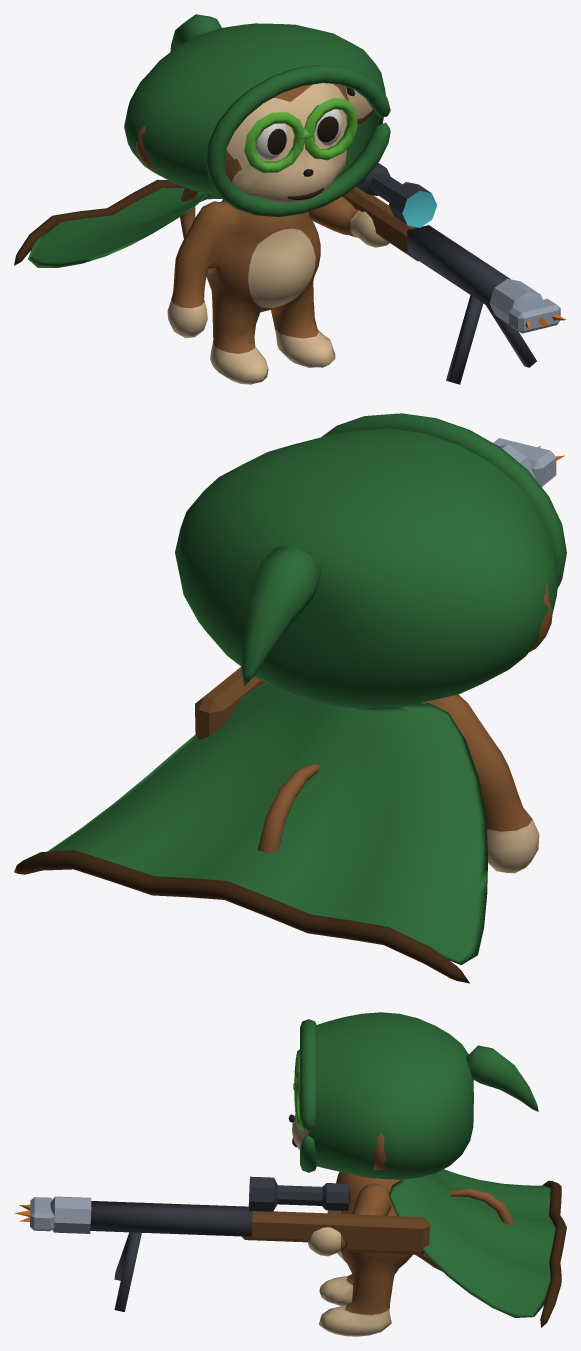
3 views of the same model, one above another, from view 1: azimuth 30°, elevation 25°; view 2: azimuth 150°, elevation 25°; view 3: azimuth 270°, elevation 25° (orthographic). The views are drawn at different scales.
Parts seen in each view (by area): view 1: sniper_2_cabeca, sniper_0_corpo, sniper_3_braco, sniper_1_cauda; view 2: sniper_2_cabeca, sniper_0_corpo, sniper_3_braco, sniper_1_cauda; view 3: sniper_2_cabeca, sniper_0_corpo, sniper_3_braco, sniper_1_cauda.
Boxes of the visible parts, left/top/right/bottom form: sniper_2_cabeca: left=124, top=14, right=390, bottom=216; sniper_0_corpo: left=14, top=179, right=335, bottom=384; sniper_3_braco: left=308, top=163, right=566, bottom=384; sniper_1_cauda: left=180, top=187, right=206, bottom=276; sniper_2_cabeca: left=175, top=413, right=566, bottom=707; sniper_0_corpo: left=14, top=682, right=539, bottom=983; sniper_3_braco: left=195, top=438, right=564, bottom=739; sniper_1_cauda: left=258, top=764, right=319, bottom=853; sniper_2_cabeca: left=288, top=1012, right=538, bottom=1179; sniper_0_corpo: left=319, top=1169, right=566, bottom=1336; sniper_3_braco: left=14, top=1176, right=429, bottom=1311; sniper_1_cauda: left=415, top=1188, right=514, bottom=1271.
Bounding box in the file's own units: 1.01 × 0.9911 × 1.72.
